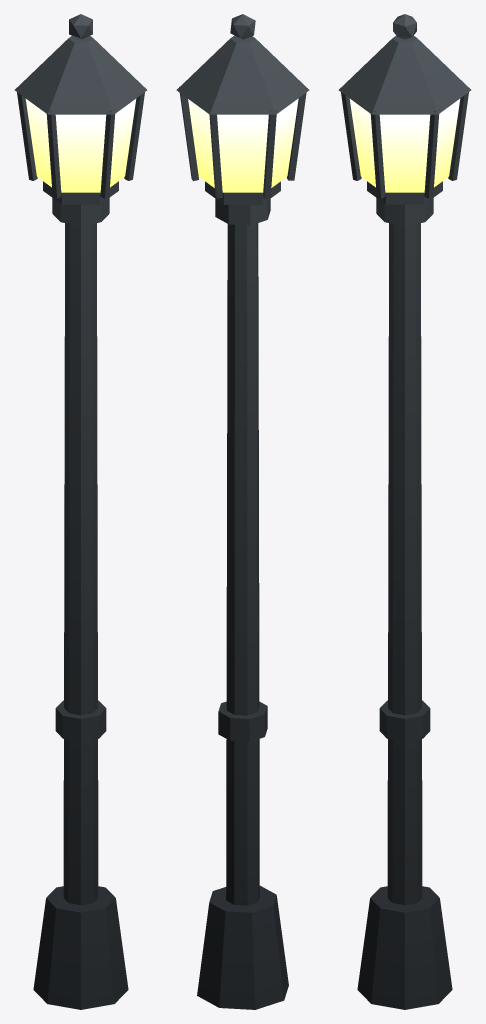
File: farol.glb
The picture shows the model from 3 angles, left to right: view 1: azimuth 90°, elevation 25°; view 2: azimuth 150°, elevation 25°; view 3: azimuth 270°, elevation 25°; orthographic projection.
Visible parts, largest first — view 1: farol; view 2: farol; view 3: farol.
Part boxes in pixels (x1,y1,x2,y2): farol: [14, 14, 147, 1009]; farol: [176, 14, 309, 1009]; farol: [338, 14, 471, 1009].
Bounding box in the file's own units: 0.3637 × 3.39 × 0.42.
1 material, 1 textured.
